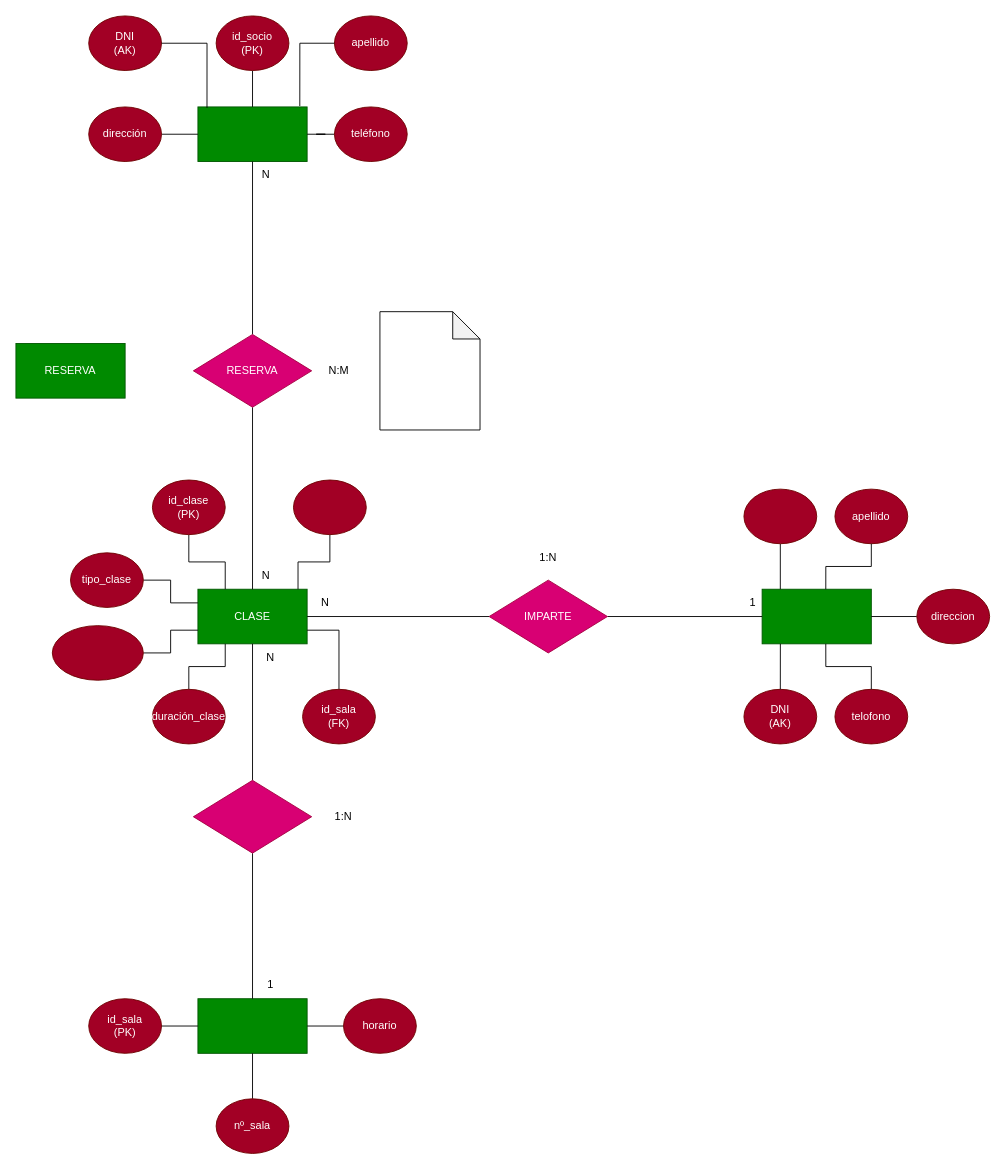
The diagram is 1006 pixels wide and 1169 high, and some of its shapes have lost their labels. The shapes that lost their labels are listed below. From the top down, each one's centre as x and y in pixels, then its label:
At point 252,134: "SOCIO".
At point 429,370: "Se van a convertir en una tabla intermedia (RESERVA)".
At point 329,507: "id_instructor (FK)".
At point 780,516: "id_instructor (PK)".
At point 816,616: "INSTRUCTOR".
At point 97,652: "cantidad_socios".
At point 252,816: "ALOJA".
At point 252,1025: "SALA".
